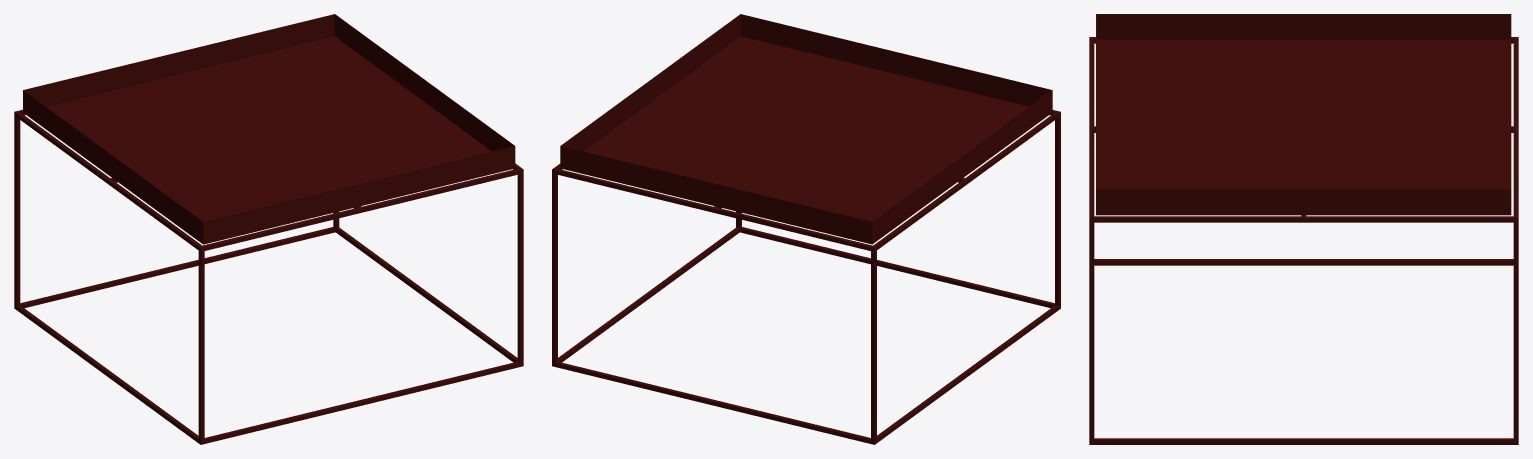
File: Hay_Tray_Coffe_Square.FBX
3 renders of one model, left to right at view 1: azimuth 30°, elevation 25°; view 2: azimuth 150°, elevation 25°; view 3: azimuth 270°, elevation 25°, orthographic. The views are drawn at different scales.
Visible parts, largest first — view 1: Hay_Tray_Coffe_Square; view 2: Hay_Tray_Coffe_Square; view 3: Hay_Tray_Coffe_Square.
Part boxes in pixels (<box>): Hay_Tray_Coffe_Square: <box>14,14,523,444</box>; Hay_Tray_Coffe_Square: <box>552,14,1060,444</box>; Hay_Tray_Coffe_Square: <box>1089,14,1518,444</box>.
Bounding box in the file's own units: 60.05 × 39 × 60.04.
